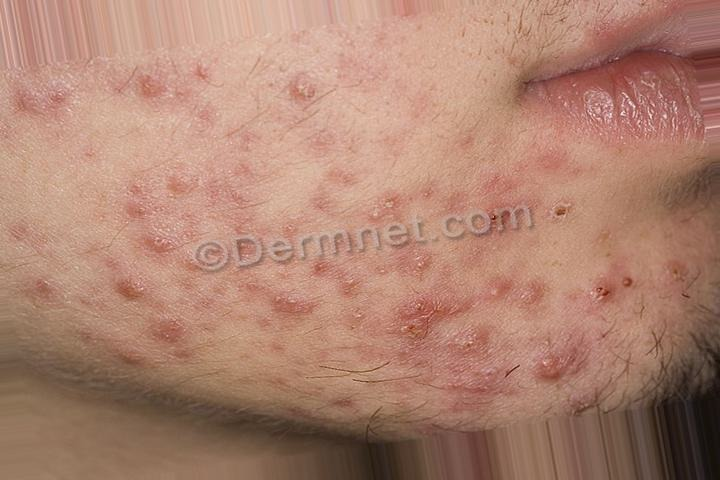Acne: (13, 68, 686, 436)
